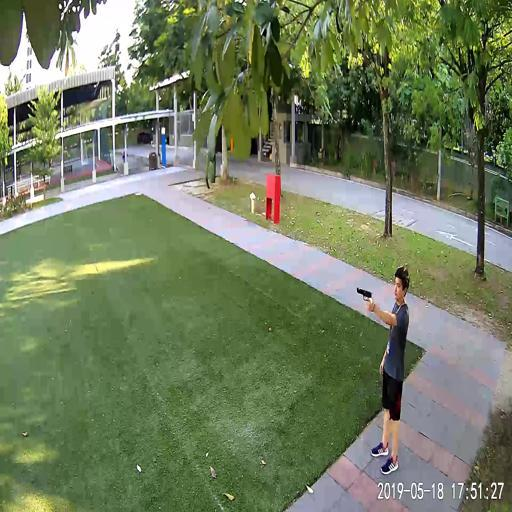Handgun: (354, 283, 371, 300)
